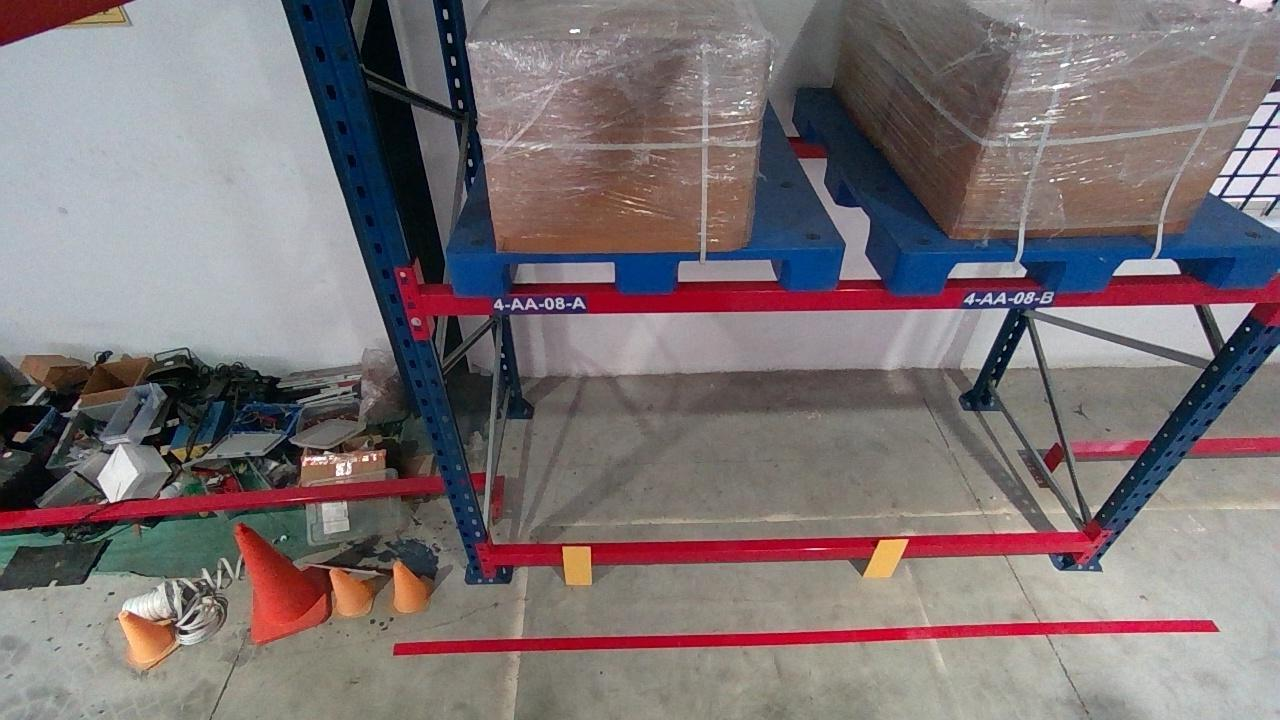h_rack: (424, 281, 1273, 312), (496, 538, 1093, 565)
orange_strip: (863, 538, 910, 577), (561, 546, 591, 585)
red_line: (392, 618, 1219, 655)
small_pallet: (894, 244, 1279, 290), (444, 249, 845, 290)
